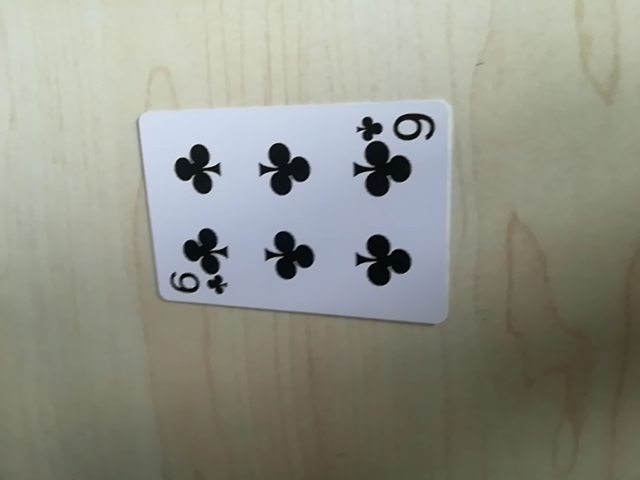mh 6: (356, 110, 440, 144), (162, 270, 227, 299)
